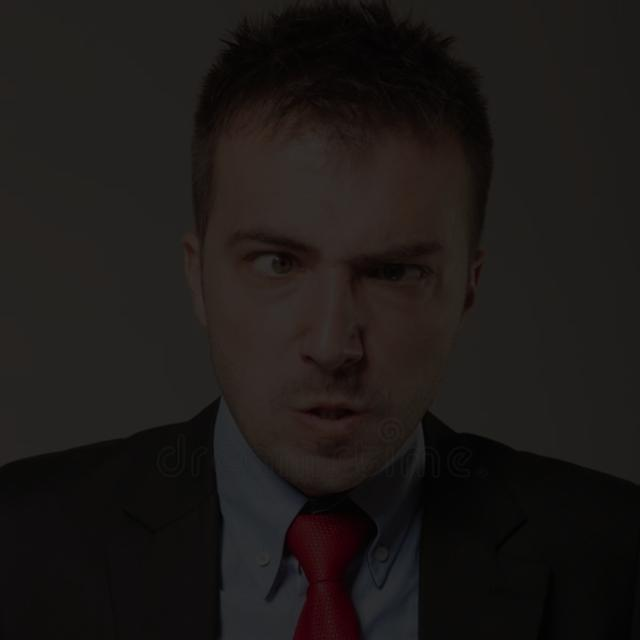Angry: (173, 124, 480, 474)
